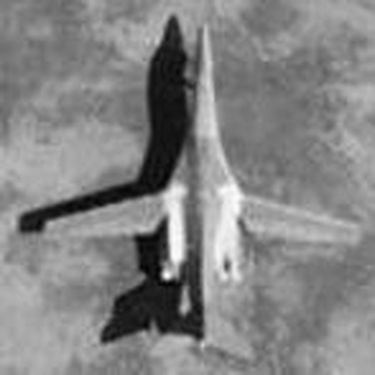airplane: (11, 10, 369, 362)
